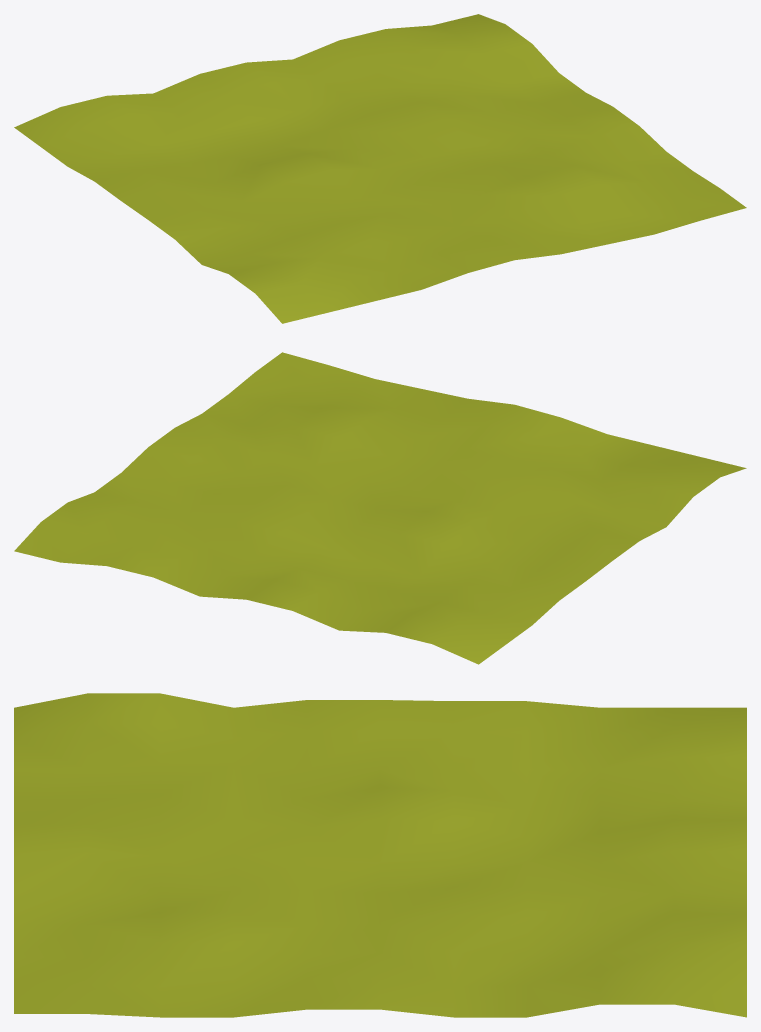
The model's file is sand_m.fbx.
The picture shows the model from 3 angles, top to bottom: view 1: azimuth 30°, elevation 25°; view 2: azimuth 150°, elevation 25°; view 3: azimuth 270°, elevation 25°; orthographic projection. The views are drawn at different scales.
Visible parts, largest first — view 1: sand; view 2: sand; view 3: sand.
Boxes of the visible parts, x1,y1,x2,y2 form: sand: [14, 14, 746, 323]; sand: [14, 352, 746, 664]; sand: [14, 693, 746, 1017].
Size of the model in its own units: 0.8224 by 0.0259 by 0.8224.
